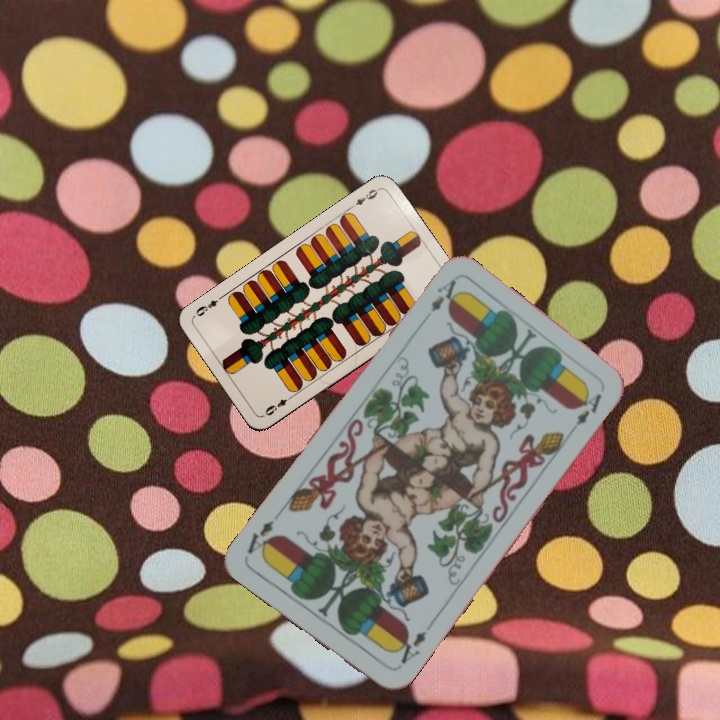E9: (259, 391, 295, 419), (346, 185, 382, 211)
EA: (390, 627, 429, 667), (427, 275, 461, 314)
